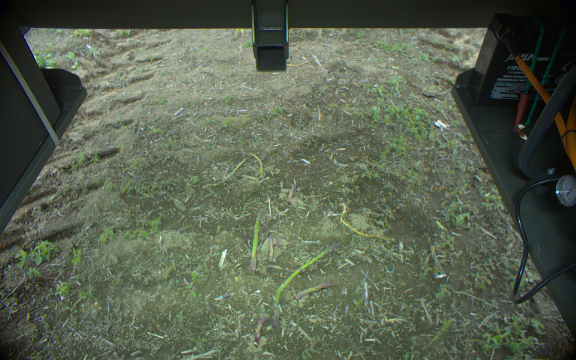aspa: (272, 238, 341, 328), (244, 208, 261, 273), (293, 281, 336, 299), (267, 232, 284, 262), (253, 317, 268, 349), (284, 181, 298, 202)
